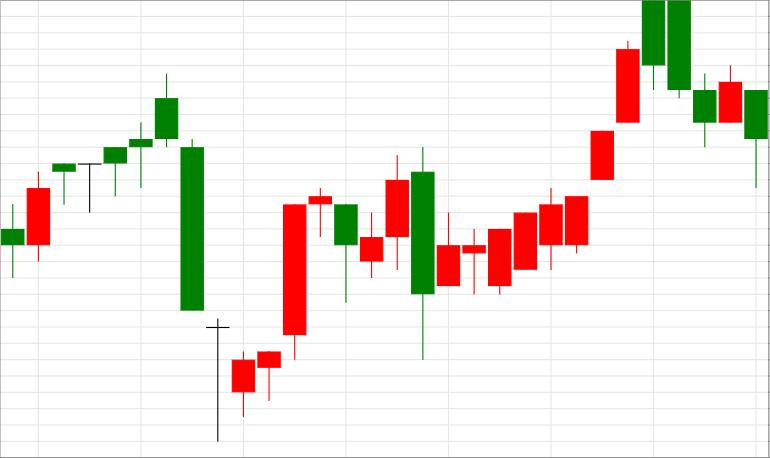evening_star_fall: (232, 189, 358, 417)
